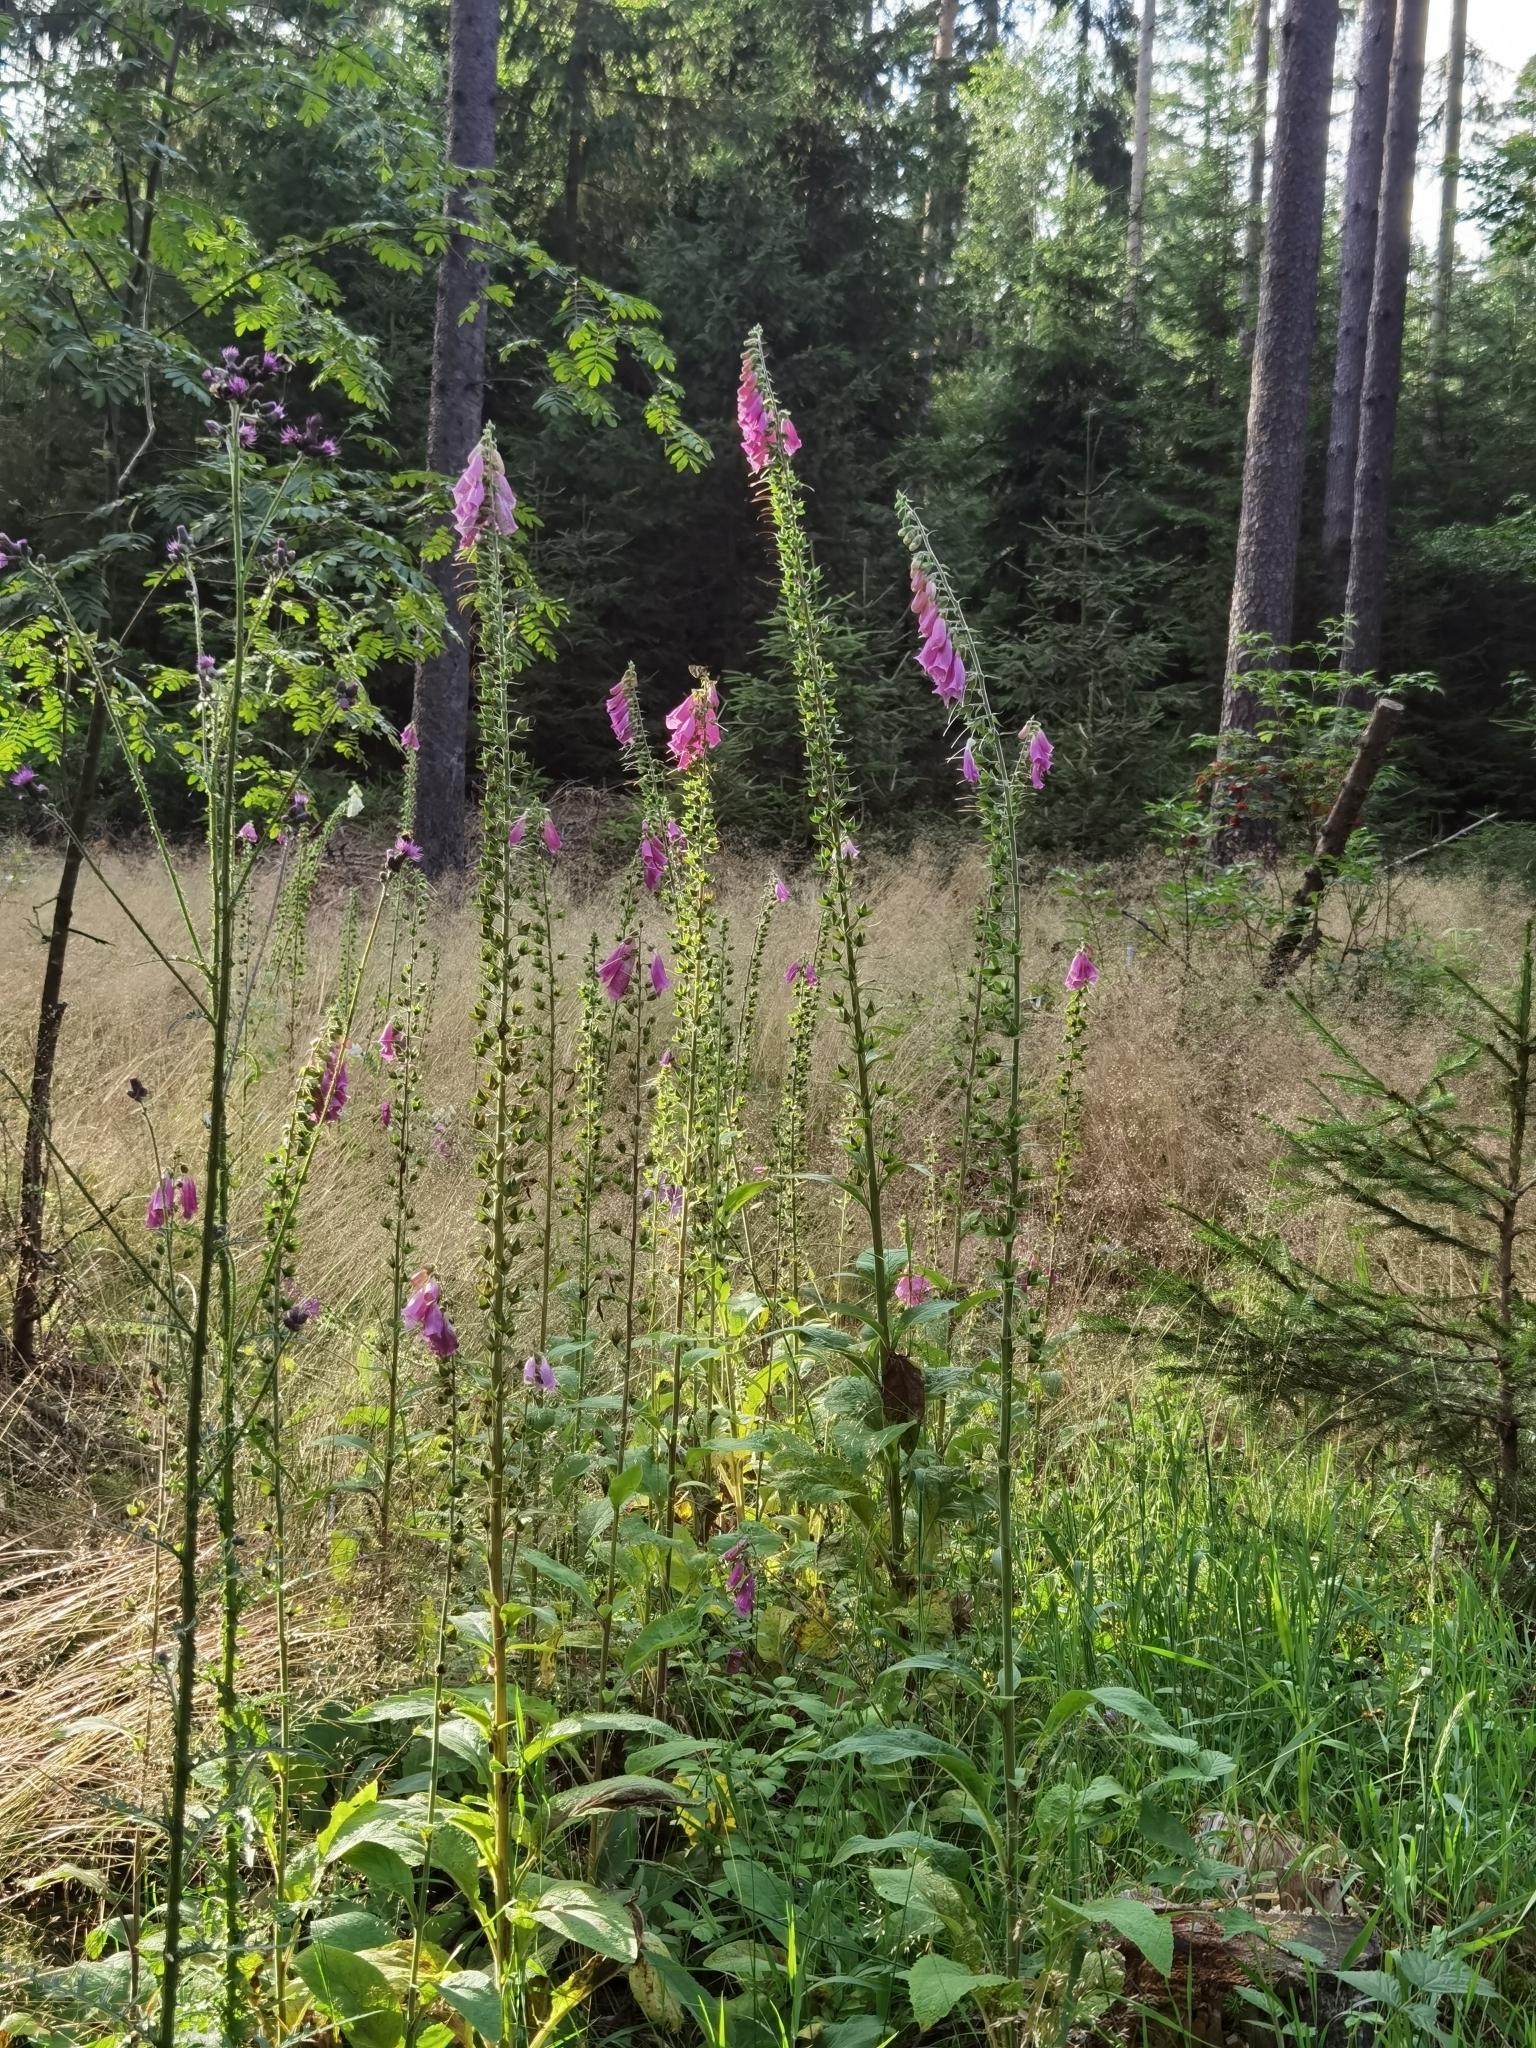Digitalis L: (715, 323, 954, 1690), (874, 464, 1078, 1959), (431, 434, 608, 2009), (591, 668, 749, 1613)
